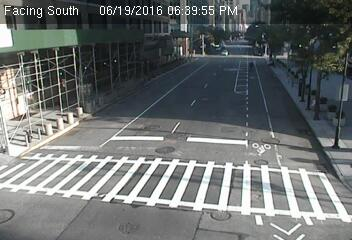neg: (185, 49, 193, 60)
pos: (246, 61, 256, 73)
